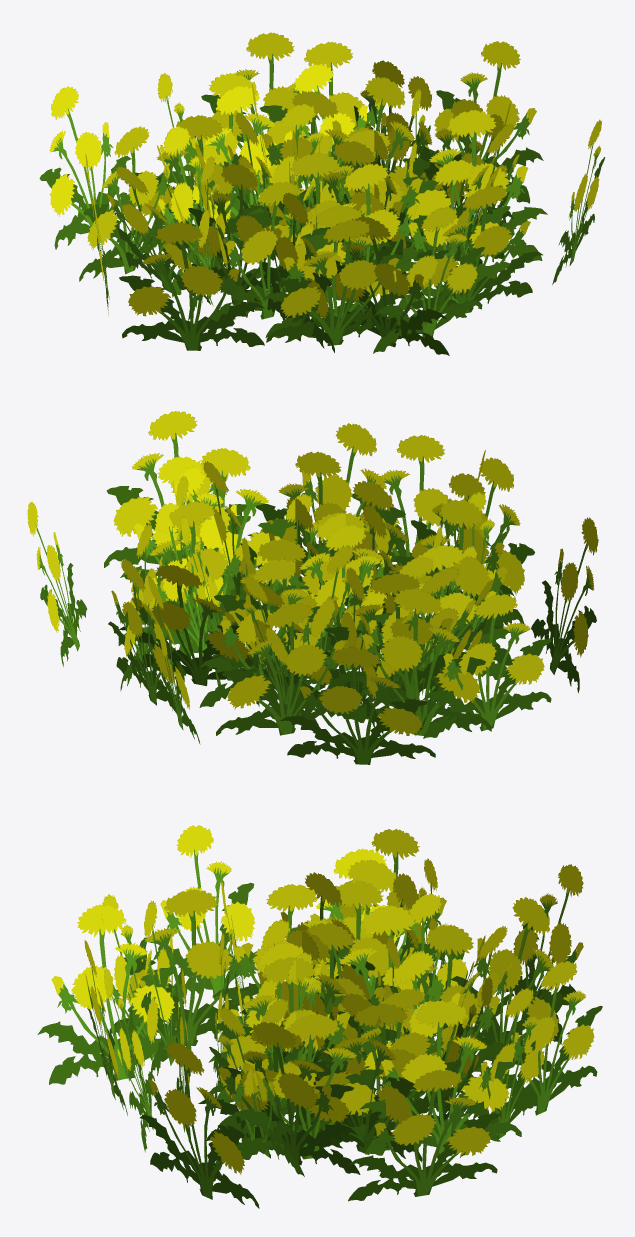
Rendered from space_dandelion.fbx.
3 views of the same model, one above another, from view 1: azimuth 30°, elevation 25°; view 2: azimuth 150°, elevation 25°; view 3: azimuth 270°, elevation 25° (orthographic). The views are drawn at different scales.
Parts seen in each view (by area): view 1: Cube_1; view 2: Cube_1; view 3: Cube_1.
Part boxes in pixels (bbox=[...]): Cube_1: bbox=[39, 32, 605, 355]; Cube_1: bbox=[27, 411, 598, 764]; Cube_1: bbox=[37, 825, 602, 1208].
Size of the model in its own units: 81.09 by 23.94 by 74.78.
Materials: 1 (1 with a texture image).
